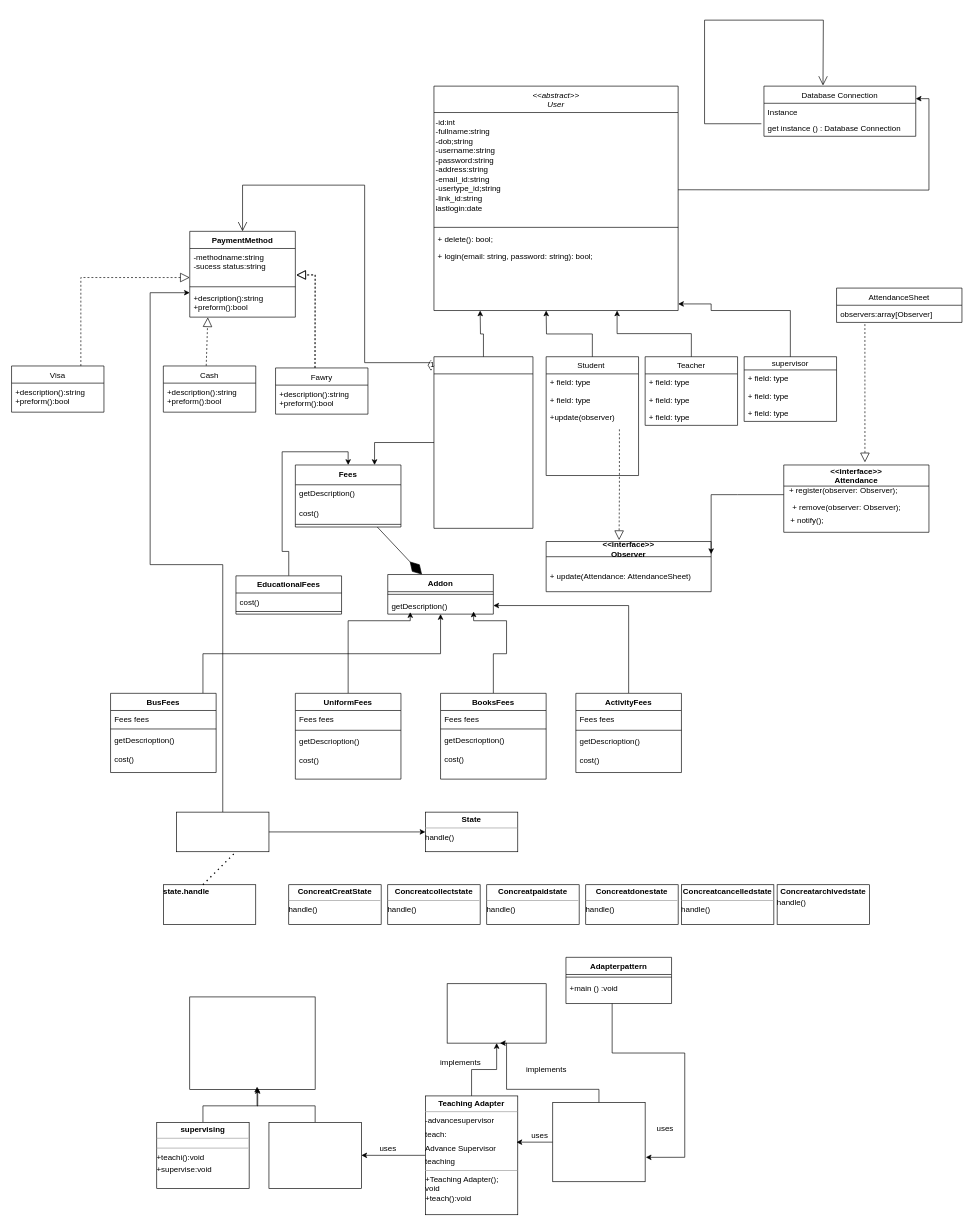
Some shapes in this 974 by 1226 pixel diagram are drawn without their labels. Each missing label, with the centre of its shape:
<<Interface>> Advance Supervisor + teach():void + supervise: void: the point at 252,1042
<<Interface>> Interface Teaching + teach: void: the point at 496,1013
parent: the point at 483,442
PaymentContext reaquest: the point at 222,831
Teacher -teaching Adapter: Teaching Adapter +teach: void: the point at 598,1142
Teaching +teach():void +supervise():void: the point at 314,1155
